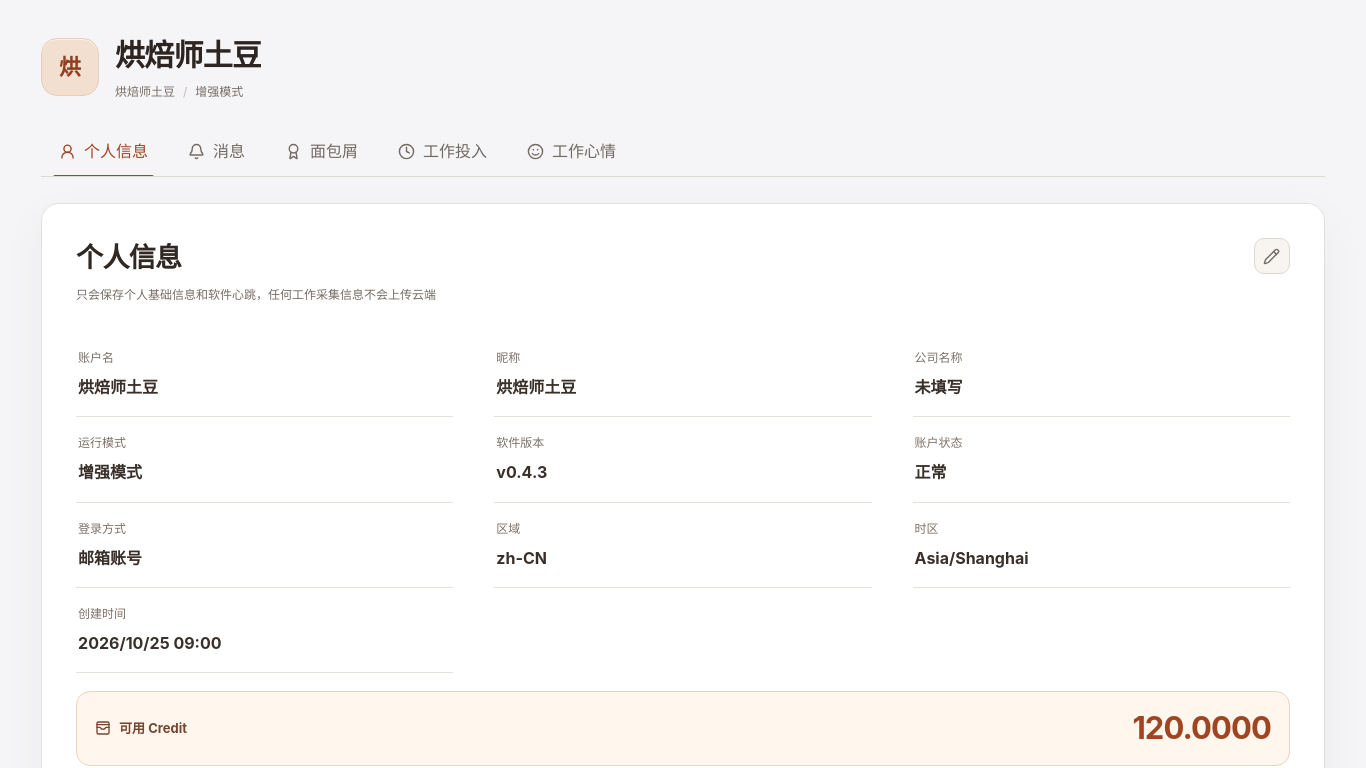
Test case: AuthPanel › 没有有效工作 IM 输入时默认展示心情良好
The width and height of the screenshot is (1366, 768).
Click the tab "工作心情" at (572, 151), box [509,126,634,176]
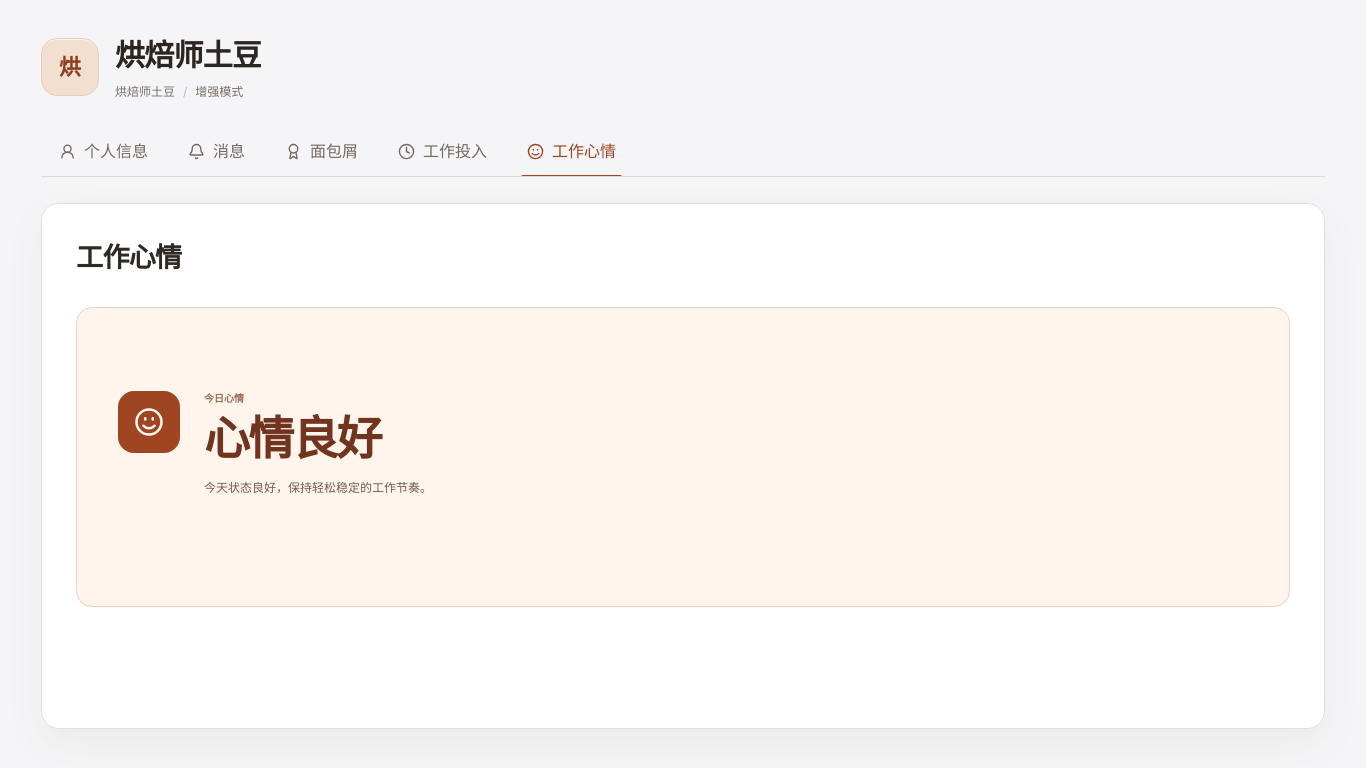
Expected: the text "心情良好" is shown, [204,410,381,466]
